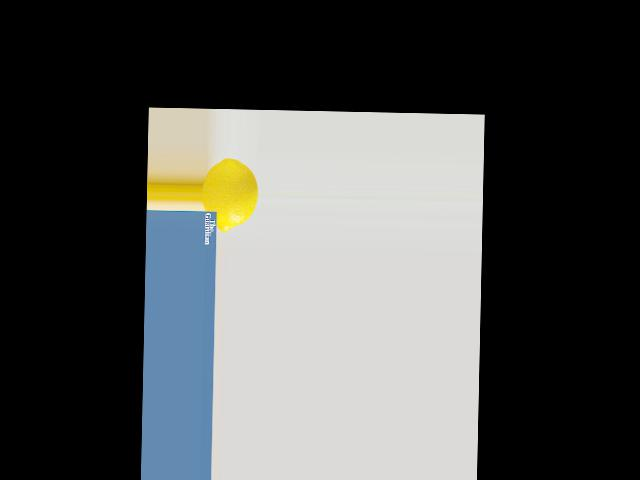lemon: (201, 153, 258, 236)
